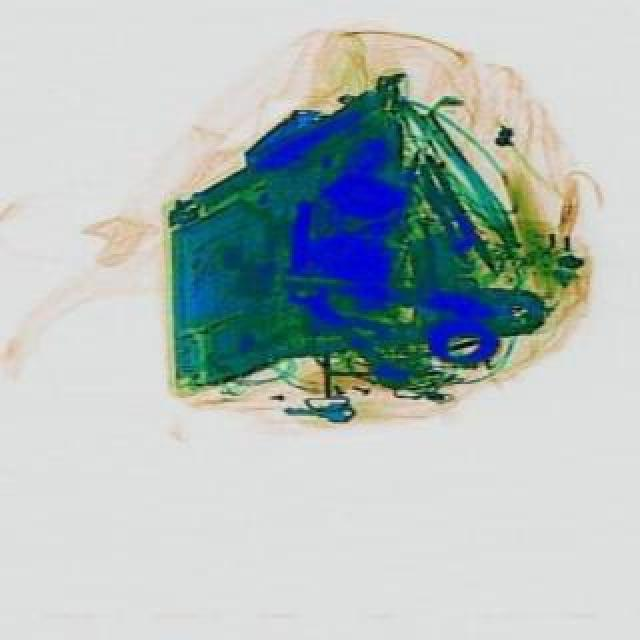scissors: (284, 272, 414, 400)
wrench: (274, 274, 542, 356)
